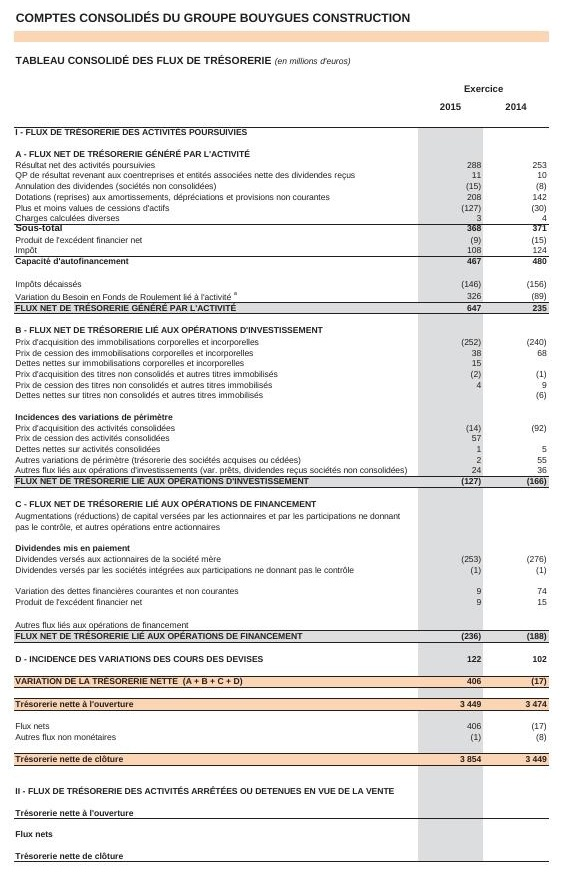table: (0, 0, 561, 875)
